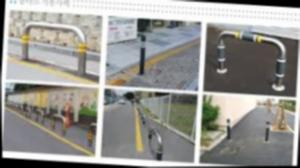Animal: (213, 28, 289, 91), (18, 19, 94, 75), (143, 125, 169, 162), (134, 37, 152, 78), (45, 112, 69, 136), (223, 121, 233, 143), (33, 110, 45, 127), (262, 121, 270, 145), (139, 113, 145, 123)
